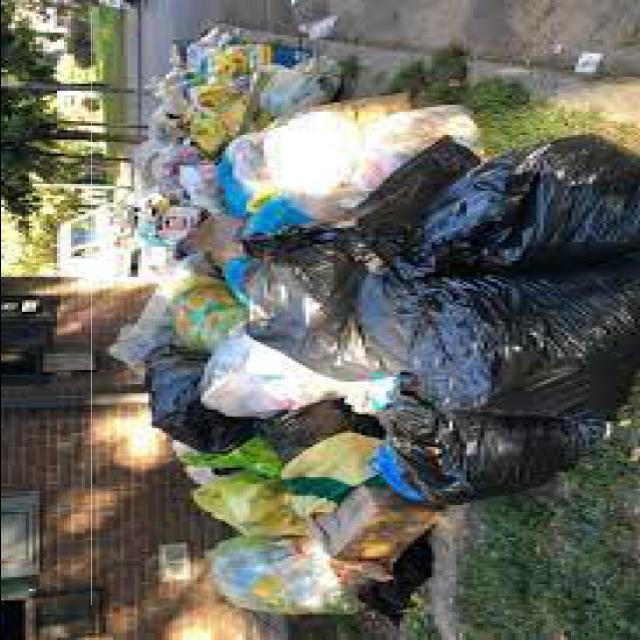Trashbag: (365, 266, 640, 418), (413, 115, 636, 272), (247, 200, 395, 394), (386, 384, 586, 502), (130, 344, 260, 457)
